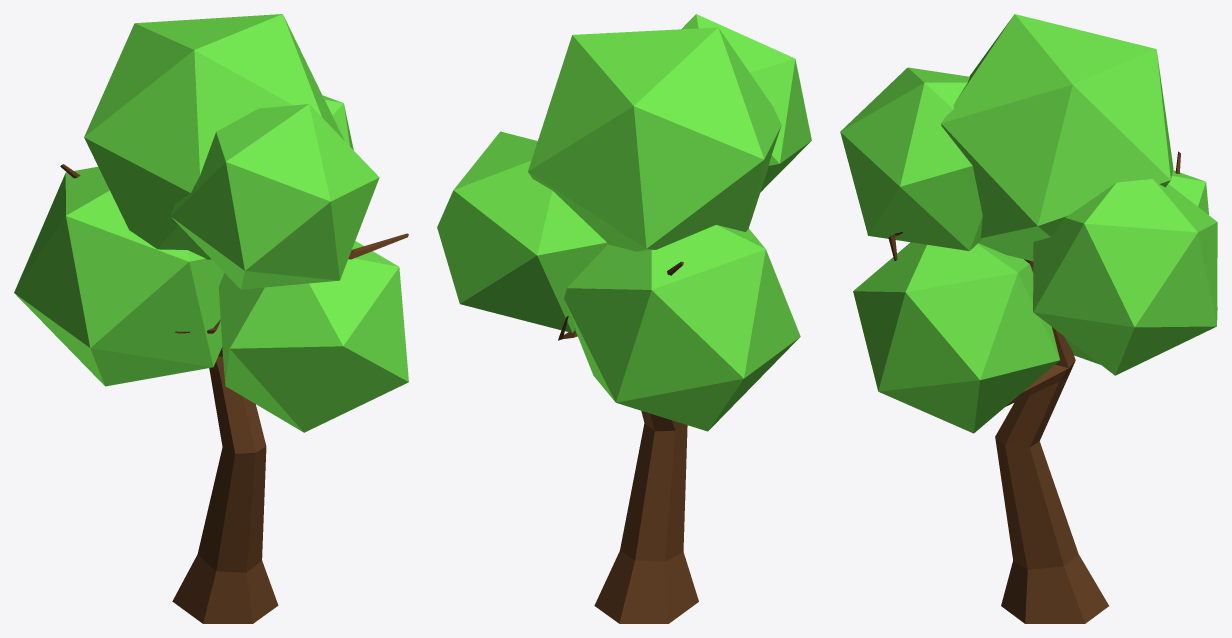
The model's file is Tree4Combined.fbx.
3 views of the same model, side by side, from view 1: azimuth 30°, elevation 25°; view 2: azimuth 150°, elevation 25°; view 3: azimuth 270°, elevation 25° (orthographic). The views are drawn at different scales.
Visible parts, largest first — view 1: Cube; view 2: Cube; view 3: Cube.
Boxes of the visible parts, x1,y1,x2,y2 form: Cube: (14,14,408,623); Cube: (437,14,811,623); Cube: (840,14,1217,623).
Size of the model in its own units: 1244 by 2115 by 1276.
